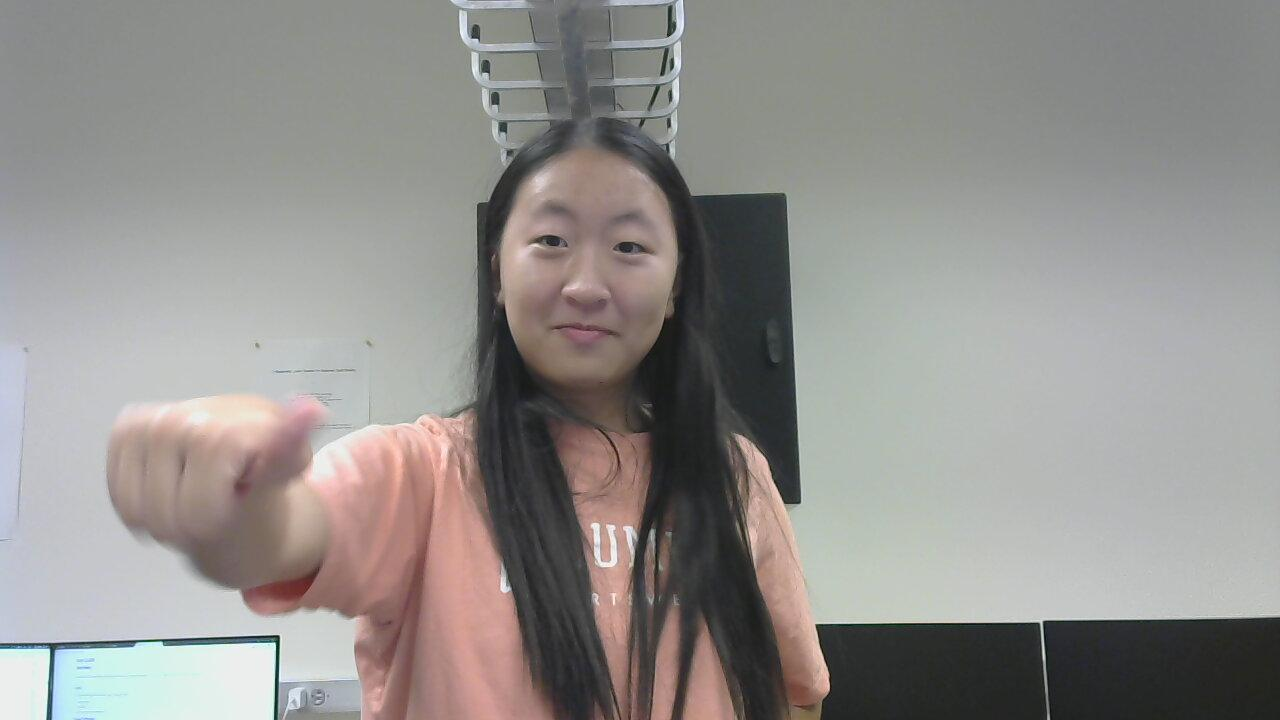fist: (91, 382, 362, 591)
